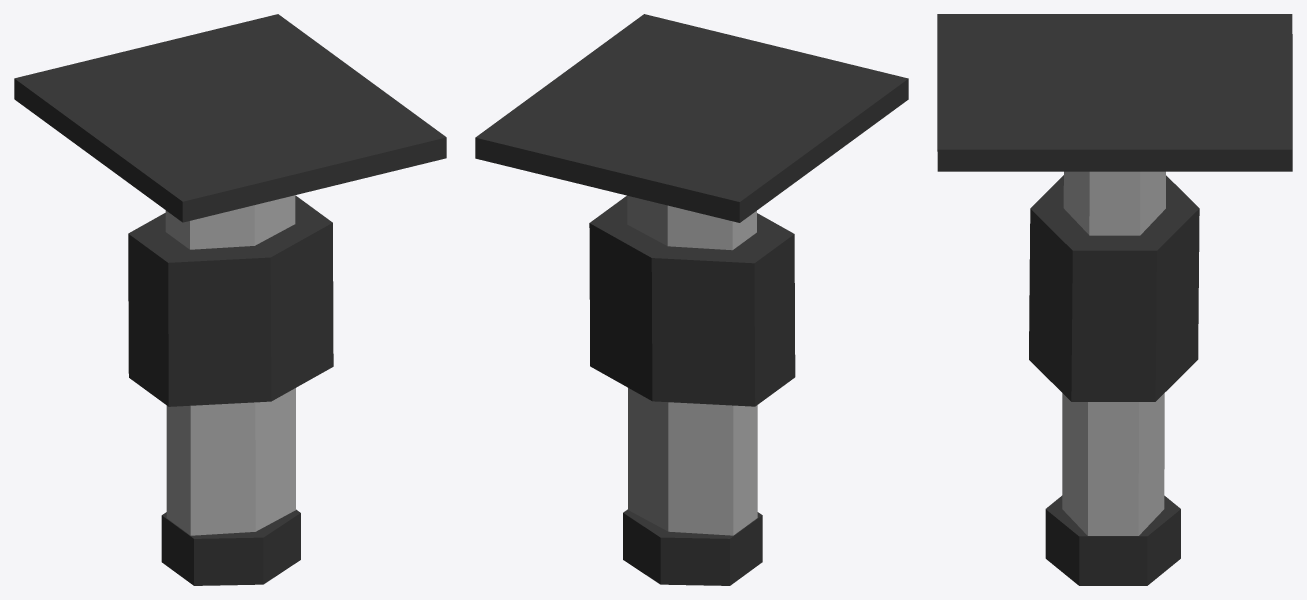
Rendered from Camera_Ceiling_Base.fbx.
3 views of the same model, side by side, from view 1: azimuth 30°, elevation 25°; view 2: azimuth 150°, elevation 25°; view 3: azimuth 270°, elevation 25° (orthographic). The views are drawn at different scales.
Parts seen in each view (by area): view 1: polySurface37; view 2: polySurface37; view 3: polySurface37.
Boxes of the visible parts, box(x1,y1,x2,y2) form: polySurface37: box(14, 14, 446, 585); polySurface37: box(475, 14, 908, 585); polySurface37: box(937, 14, 1292, 585).
Bounding box in the file's own units: 69.23 × 113 × 76.57.
Materials: 1 (1 with a texture image).
